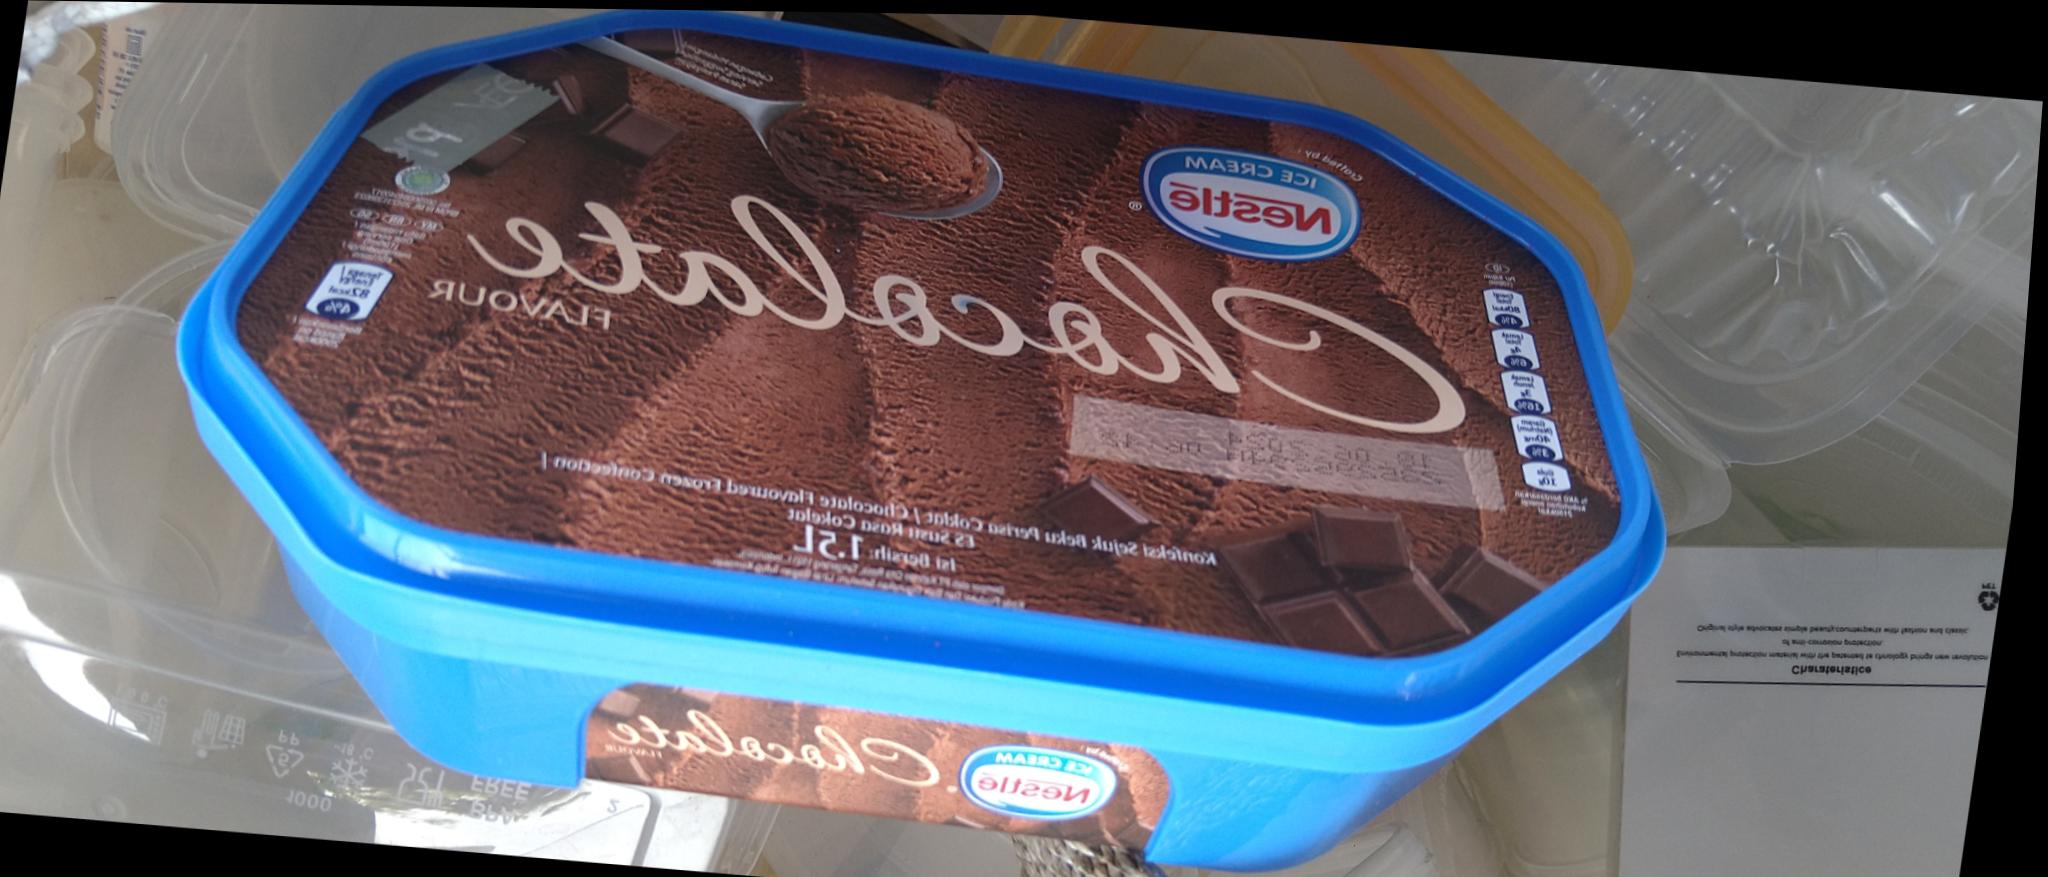plastic: (0, 5, 1661, 868), (0, 255, 756, 865), (1529, 64, 2038, 542)
